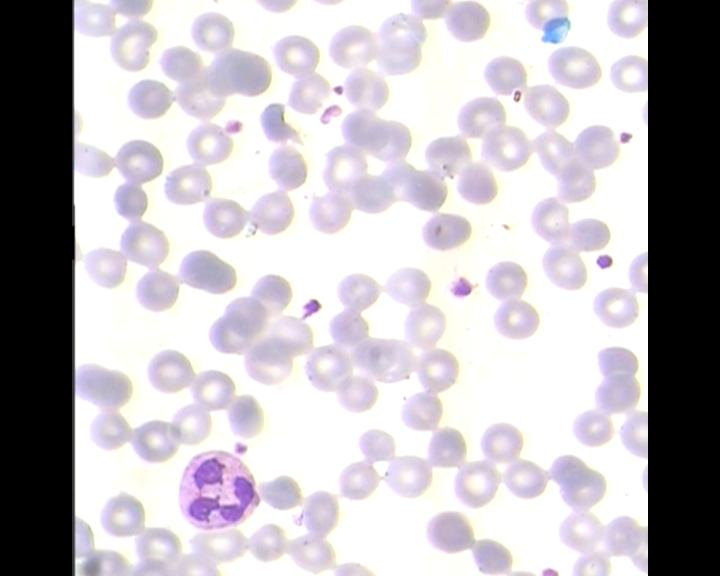neut: (174, 447, 269, 533)
